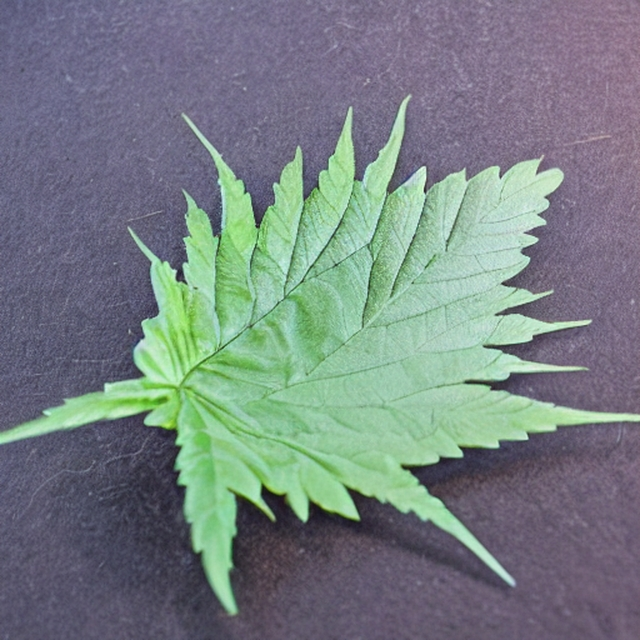Marijuana Leaf: (0, 92, 639, 616)
